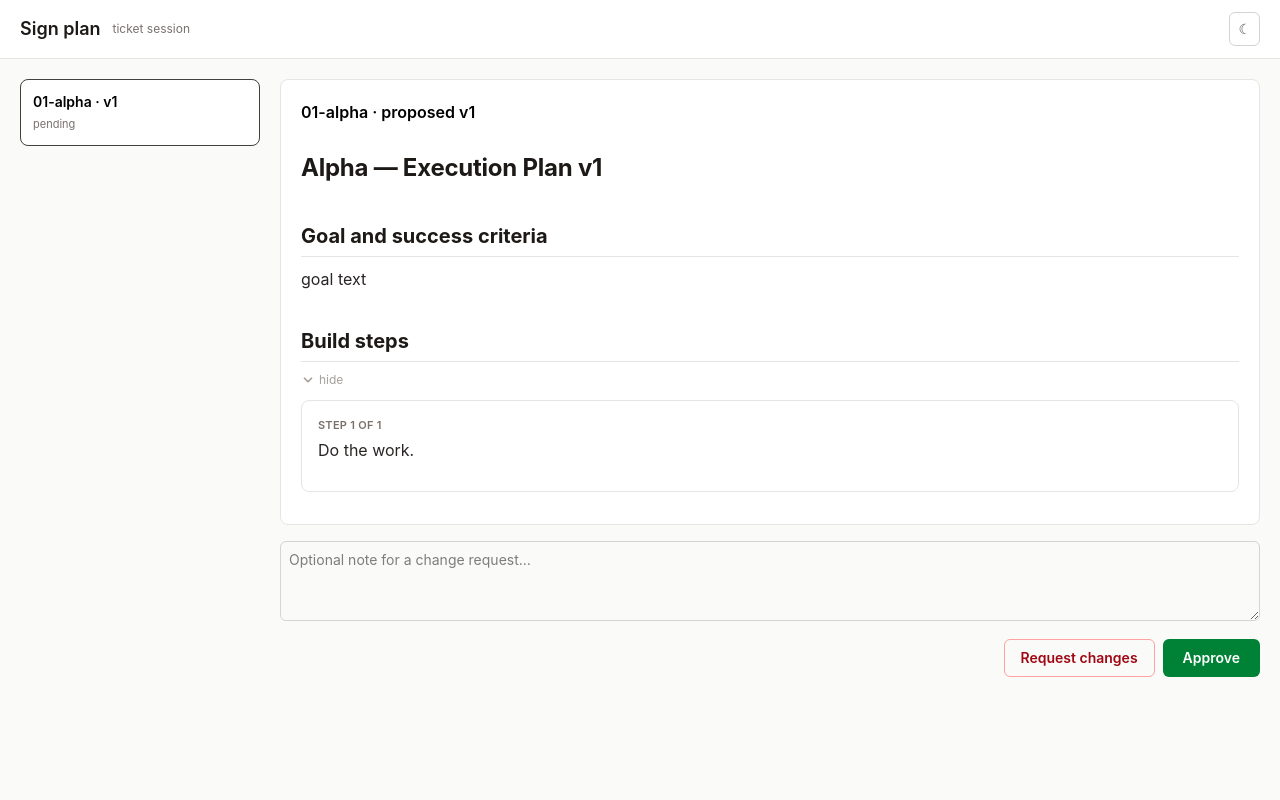
SignOffView › renders items and ticket approval posts the exact identity plus token
The width and height of the screenshot is (1280, 800).
Expected: the text "01-alpha · v1" is shown, [33,93,117,110]
Click the button "Approve": point(1211, 658) [1163,639,1260,677]
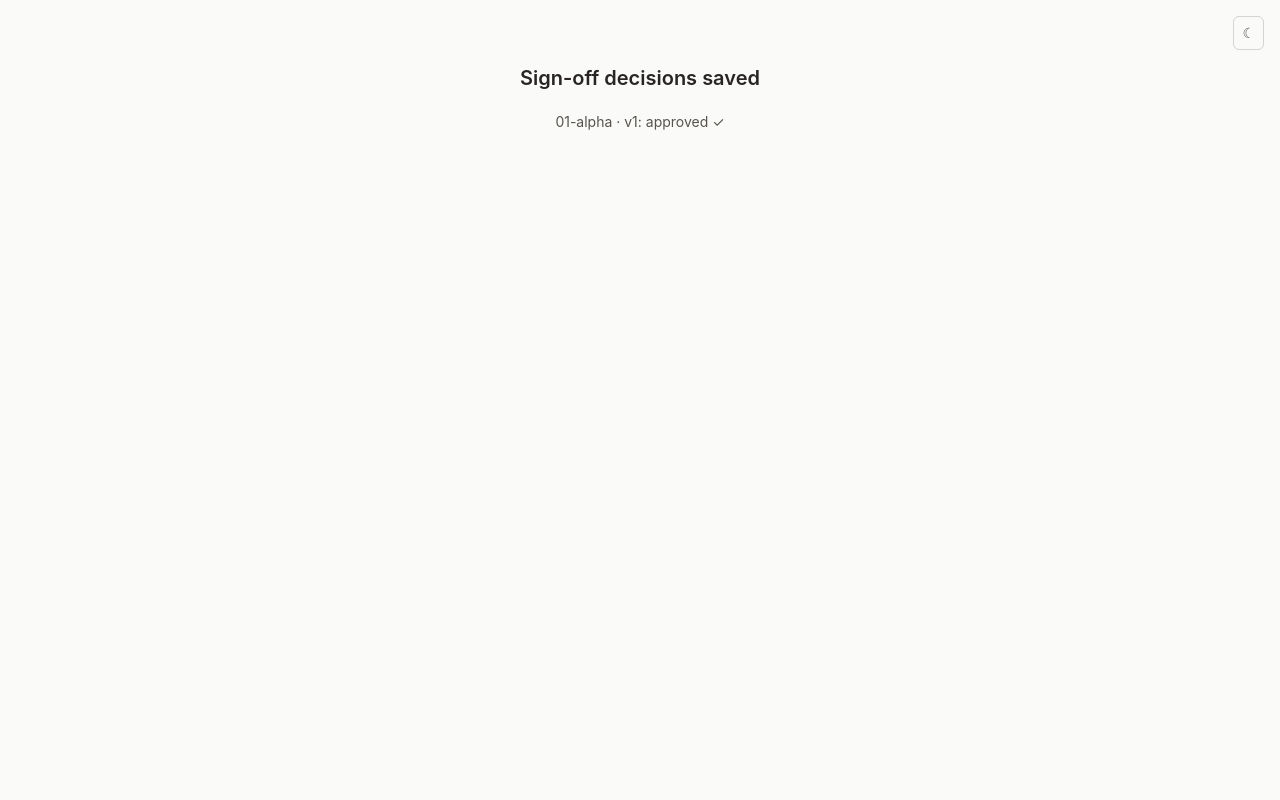
Result: the text "approved ✓" is shown at [646,113,725,130]
